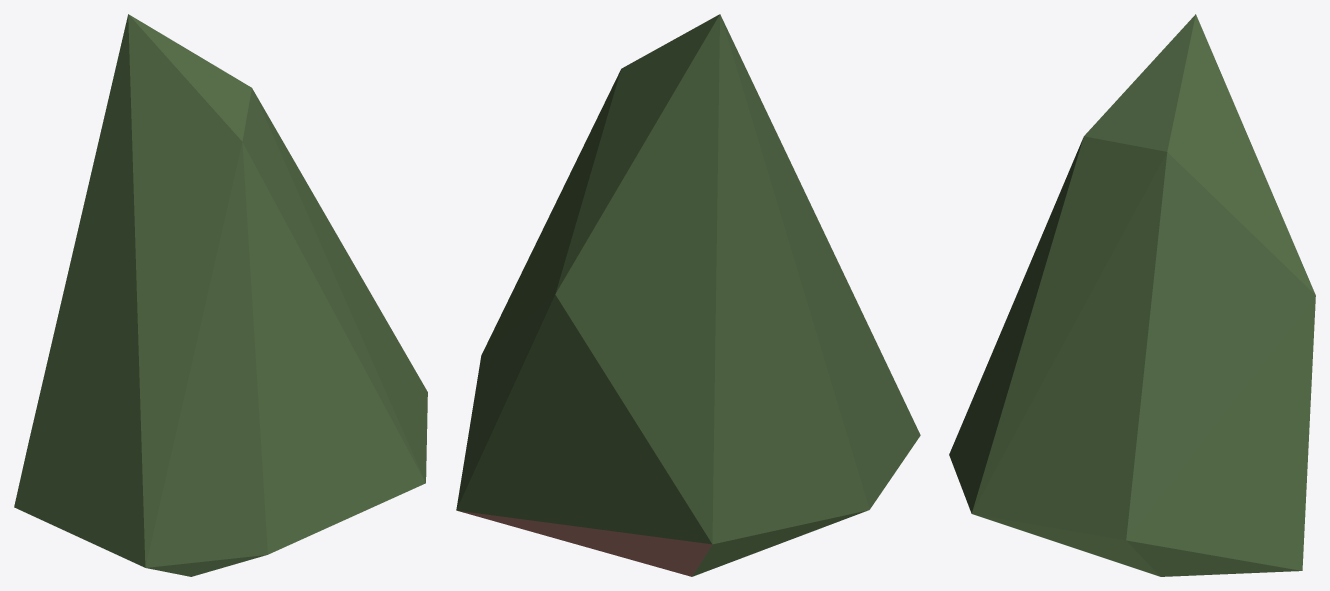
The model's file is PineTree_1.lod4.glb.
3 renders of one model, left to right at view 1: azimuth 30°, elevation 25°; view 2: azimuth 150°, elevation 25°; view 3: azimuth 270°, elevation 25°, orthographic. The views are drawn at different scales.
Visible parts, largest first — view 1: PineTree_1; view 2: PineTree_1; view 3: PineTree_1.
Part boxes in pixels (x1,y1,x2,y2): PineTree_1: [14, 14, 427, 576]; PineTree_1: [456, 14, 920, 576]; PineTree_1: [949, 14, 1315, 576].
Bounding box in the file's own units: 2.04 × 2.79 × 1.71.
